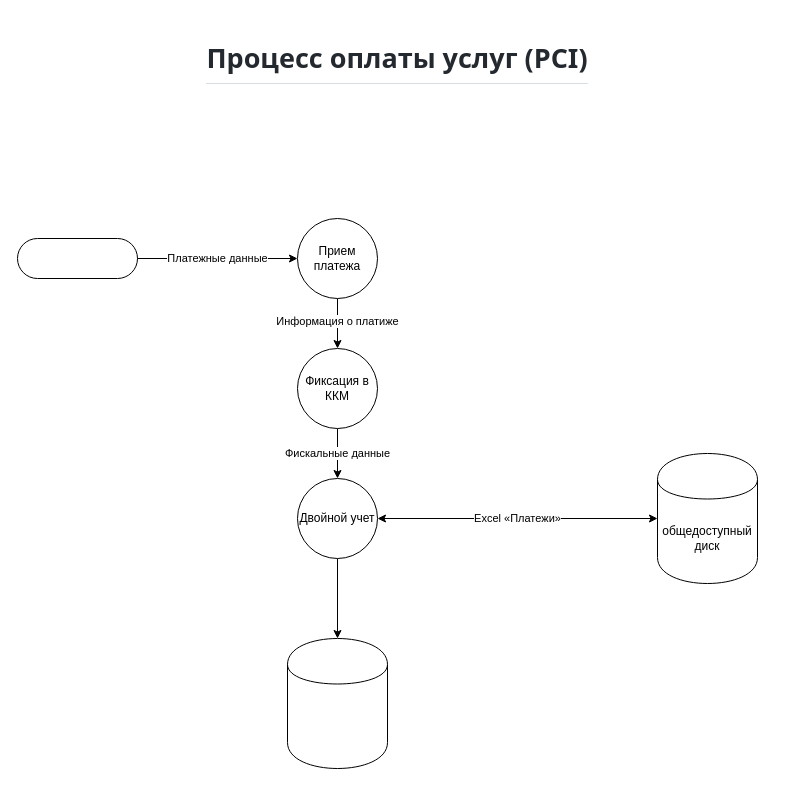
Some shapes in this 795 by 786 pixel diagram are drawn without their labels. The centre of each missing label's shape, as x and y in pixels:
1С: Бухгалтерия: pixel 337 703
Пациент: pixel 77 258
